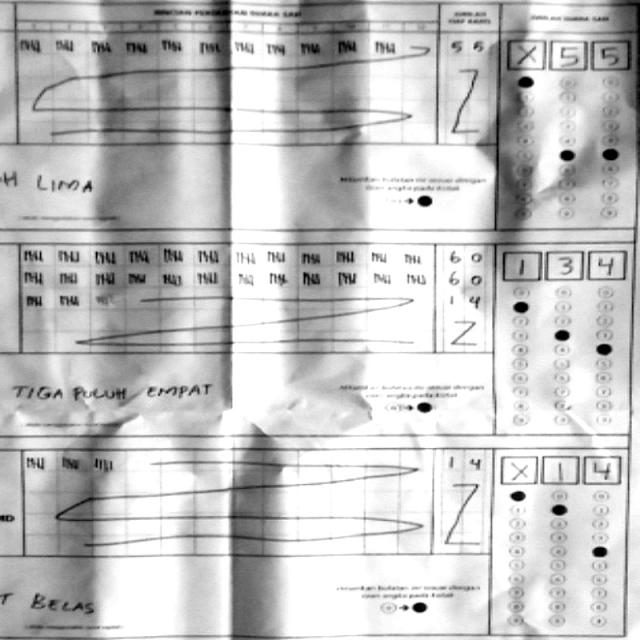Suara: (504, 38, 635, 73), (496, 456, 624, 488), (500, 251, 624, 282)
